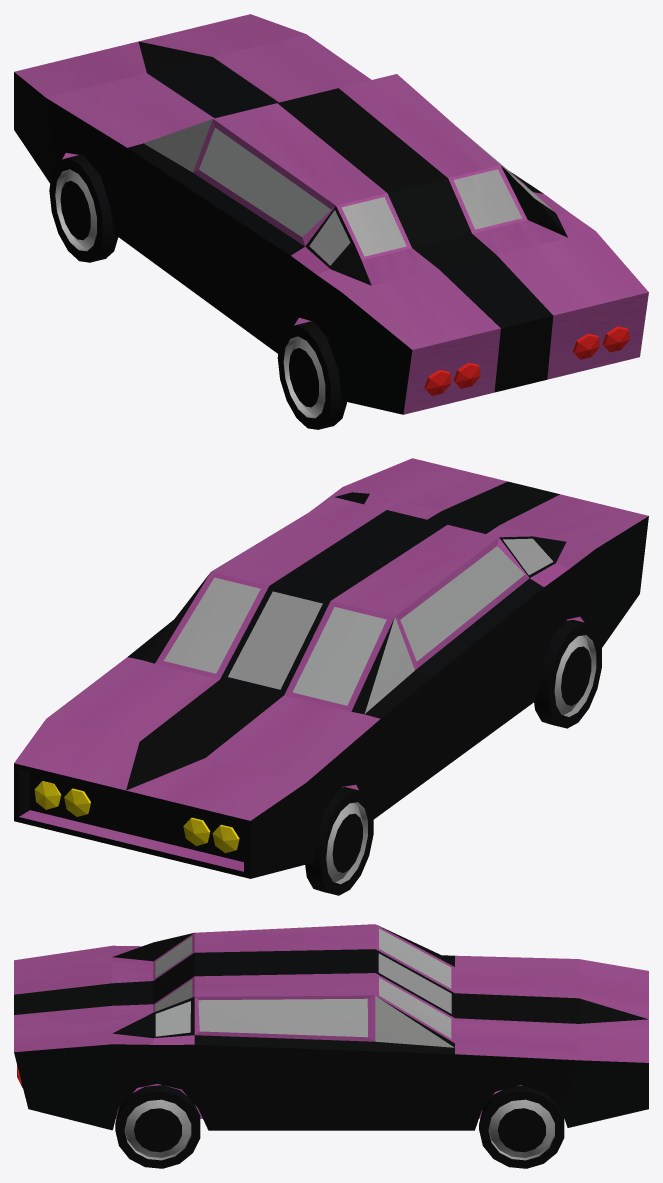
The model's file is carroToretto.fbx.
The picture shows the model from 3 angles, top to bottom: view 1: azimuth 30°, elevation 25°; view 2: azimuth 150°, elevation 25°; view 3: azimuth 270°, elevation 25°; orthographic projection. The views are drawn at different scales.
Parts seen in each view (by area): view 1: Cuerpo, RuedaTraseraIzq, RuedaDelanteraIzq; view 2: Cuerpo, RuedaTraseraIzq, RuedaDelanteraIzq; view 3: Cuerpo, RuedaTraseraDer, RuedaDelanteraDer.
Boxes of the visible parts, <box> form: Cuerpo: <box>14,14,648,414</box>; RuedaTraseraIzq: <box>277,321,346,429</box>; RuedaDelanteraIzq: <box>49,155,118,262</box>; Cuerpo: <box>14,458,648,878</box>; RuedaTraseraIzq: <box>534,620,601,728</box>; RuedaDelanteraIzq: <box>305,787,373,895</box>; Cuerpo: <box>14,924,648,1130</box>; RuedaTraseraDer: <box>115,1085,200,1168</box>; RuedaDelanteraDer: <box>479,1085,564,1168</box>.
Size of the model in its own units: 497 by 345 by 1263.
7 materials, 5 textured.
